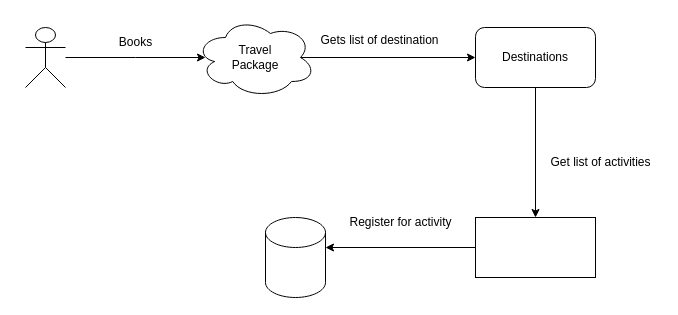
The diagram is 678 pixels wide and 315 high, and some of its shapes have lost their labels. The shapes that lost their labels are listed below. From the top down, each one's box as (x1, y1, x2, y2) in pixels, then its label:
(24, 26, 66, 88): Passenger
(474, 216, 596, 278): Activities
